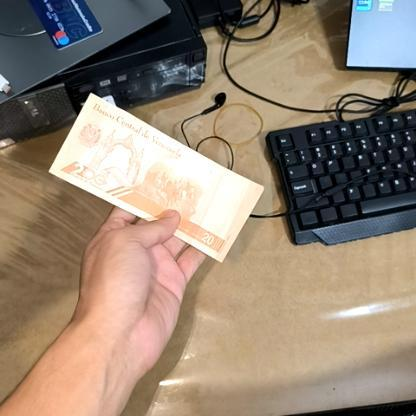twenty-back-vef: (48, 92, 264, 263)
